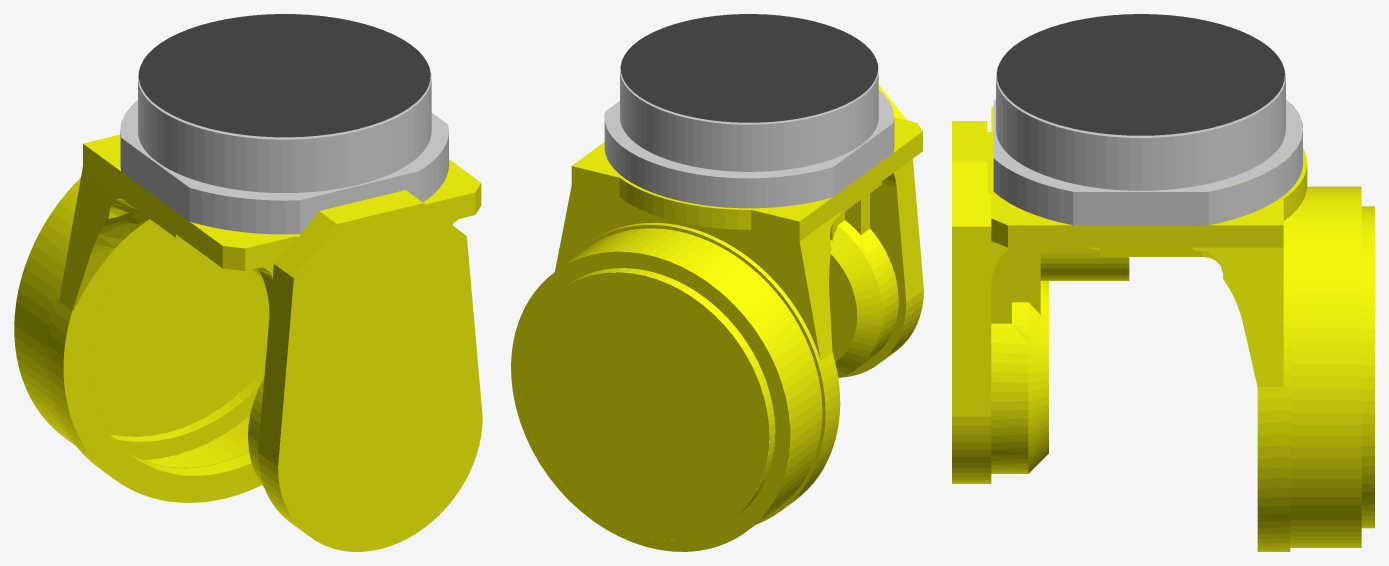
3 views of the same model, side by side, from view 1: azimuth 30°, elevation 25°; view 2: azimuth 150°, elevation 25°; view 3: azimuth 270°, elevation 25° (orthographic). The views are drawn at different scales.
Visible parts, largest first — view 1: node; view 2: node; view 3: node.
Part boxes in pixels (x1,y1,x2,y2): node: (14,14,482,551); node: (511,14,923,551); node: (952,14,1374,551).
Size of the model in its own units: 450 by 618 by 515.
